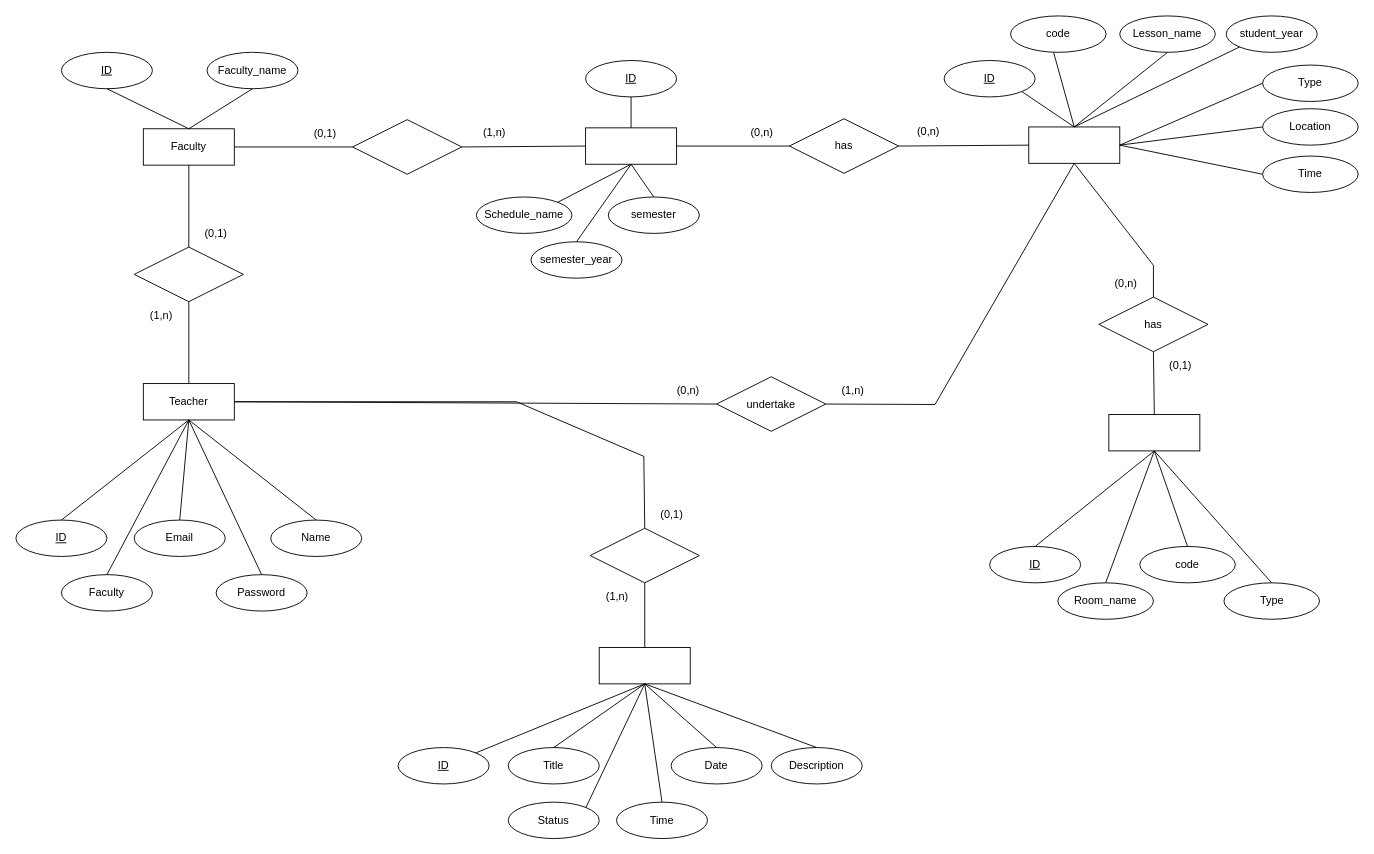
The diagram is 1374 pixels wide and 854 high, and some of its shapes have lost their labels. Each missing label, with the centre of its shape:
"Call" goes at (x=644, y=555).
"contain" goes at (x=407, y=146).
"in" goes at (x=188, y=274).
"Lesson" goes at (x=1074, y=144).
"Request" goes at (x=644, y=665).
"Room" goes at (x=1154, y=432).
"Schedule" goes at (x=631, y=145).
